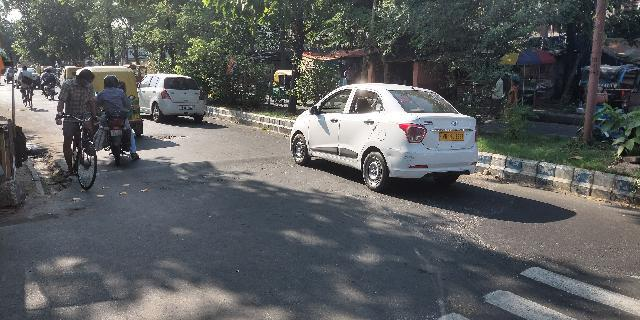Car: (288, 80, 485, 193), (139, 70, 209, 124)
Cycle: (53, 67, 100, 198), (16, 65, 38, 113)
Motorbike: (96, 74, 142, 170)
